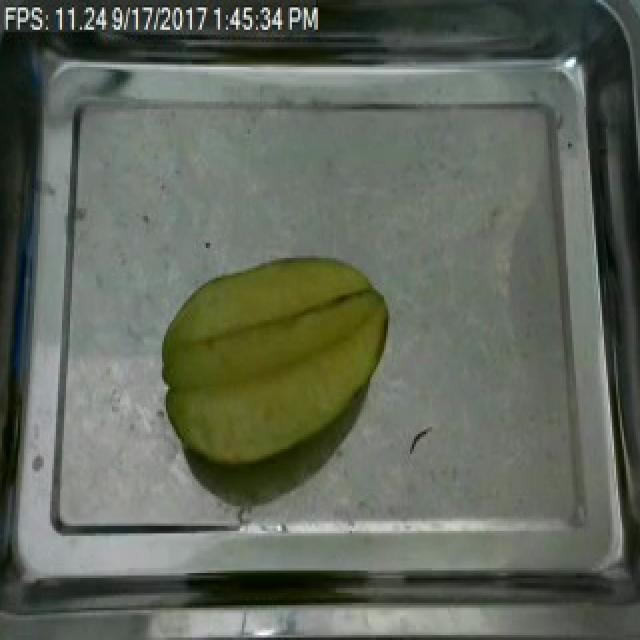fruit: (150, 246, 402, 481)
